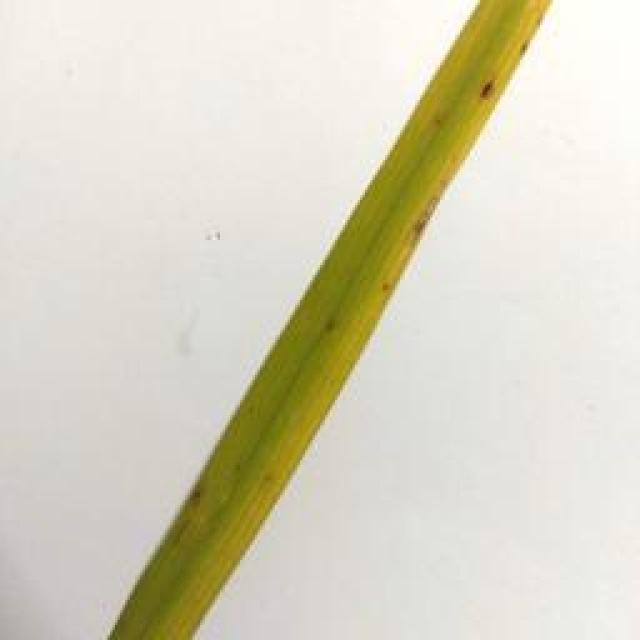Brown_Spot: (171, 466, 219, 536), (463, 53, 509, 121), (400, 199, 447, 241), (508, 24, 542, 58), (307, 307, 347, 333), (374, 264, 388, 300), (432, 108, 444, 125)
